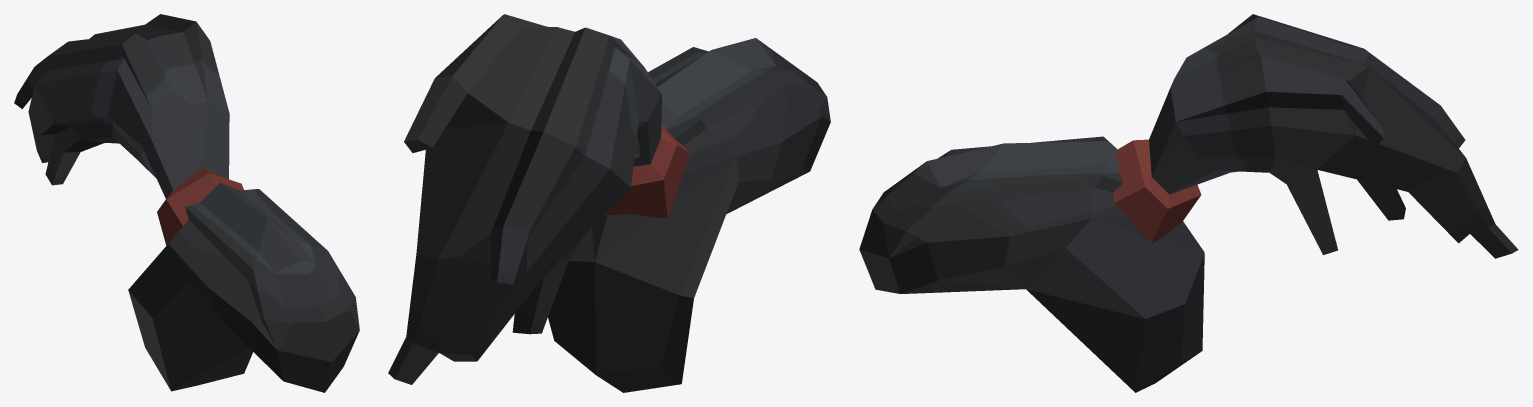
File: SM_Chr_Attach_Hair_Ponytail_01.fbx
3 views of the same model, side by side, from view 1: azimuth 30°, elevation 25°; view 2: azimuth 150°, elevation 25°; view 3: azimuth 270°, elevation 25° (orthographic). The views are drawn at different scales.
Visible parts, largest first — view 1: SM_Chr_Attach_Hair_Ponytail_01; view 2: SM_Chr_Attach_Hair_Ponytail_01; view 3: SM_Chr_Attach_Hair_Ponytail_01.
Boxes of the visible parts, x1,y1,x2,y2 form: SM_Chr_Attach_Hair_Ponytail_01: (14, 14, 359, 392); SM_Chr_Attach_Hair_Ponytail_01: (388, 14, 830, 392); SM_Chr_Attach_Hair_Ponytail_01: (859, 14, 1518, 392).
Size of the model in its own units: 13.39 by 28.43 by 47.56.
